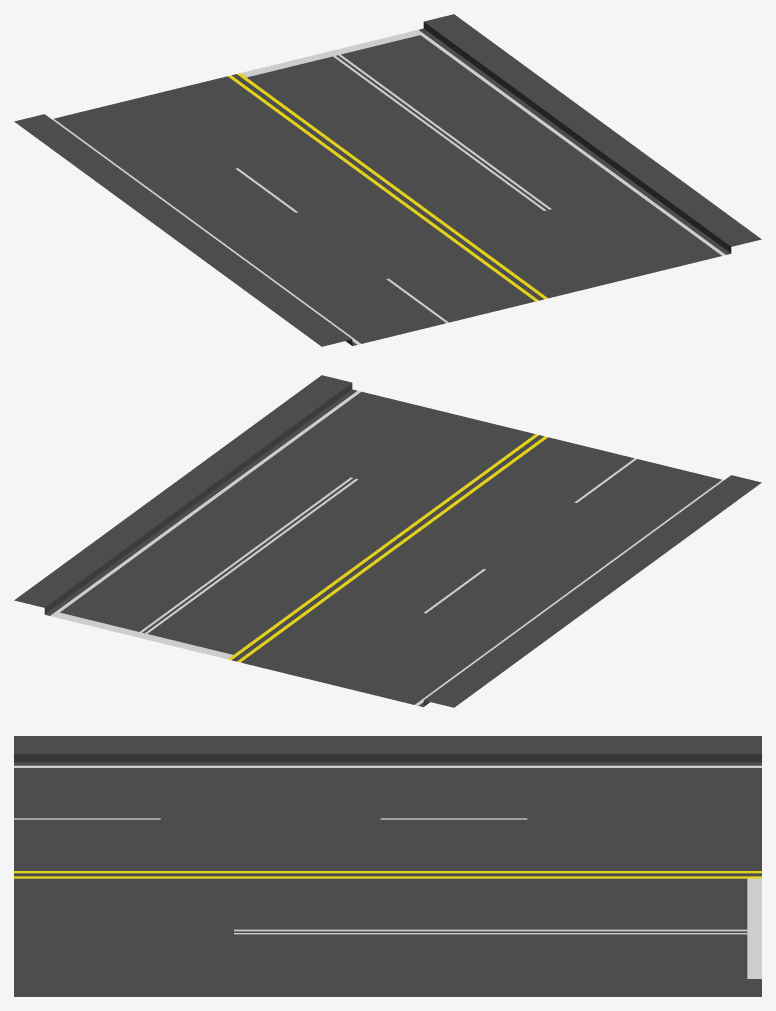
The model's file is 2linesnoturn.fbx.
3 views of the same model, one above another, from view 1: azimuth 30°, elevation 25°; view 2: azimuth 150°, elevation 25°; view 3: azimuth 270°, elevation 25° (orthographic). The views are drawn at different scales.
Parts seen in each view (by area): view 1: Plane.001; view 2: Plane.001; view 3: Plane.001.
Part boxes in pixels (bbox=[...]): Plane.001: bbox=[14, 14, 761, 346]; Plane.001: bbox=[14, 375, 761, 707]; Plane.001: bbox=[14, 736, 761, 996].
Size of the model in its own units: 1684 by 25 by 2040.
